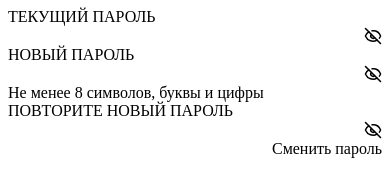
Test: ChangePasswordForm › требует совпадения повторного пароля
The width and height of the screenshot is (390, 193).
Type "oldpass1" into the password field labelled "Текущий пароль" at (186,36), box [8,26,364,46]
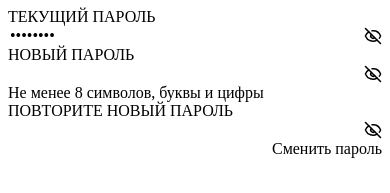
Type "newpass1" into the password field labelled "Новый пароль" at (186,74), box [8,64,364,84]
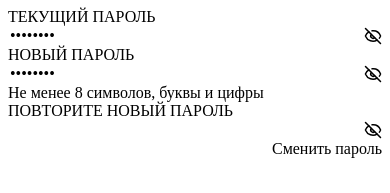
Type "newpass2" into the password field labelled "Повторите новый пароль" at (186,130), box [8,120,364,140]
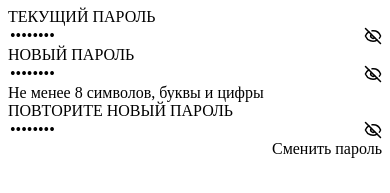
Click the button "Сменить пароль" at (327,149), box [272,140,382,158]
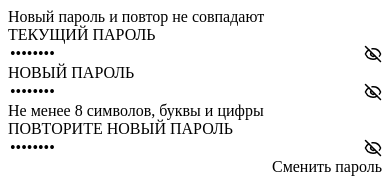
Expected: the message shows "не совпадают", [8,8,264,25]
